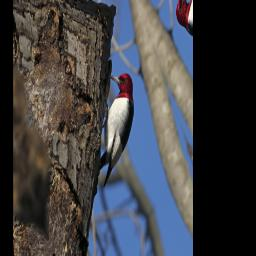Woodpecker: (75, 52, 152, 193)
